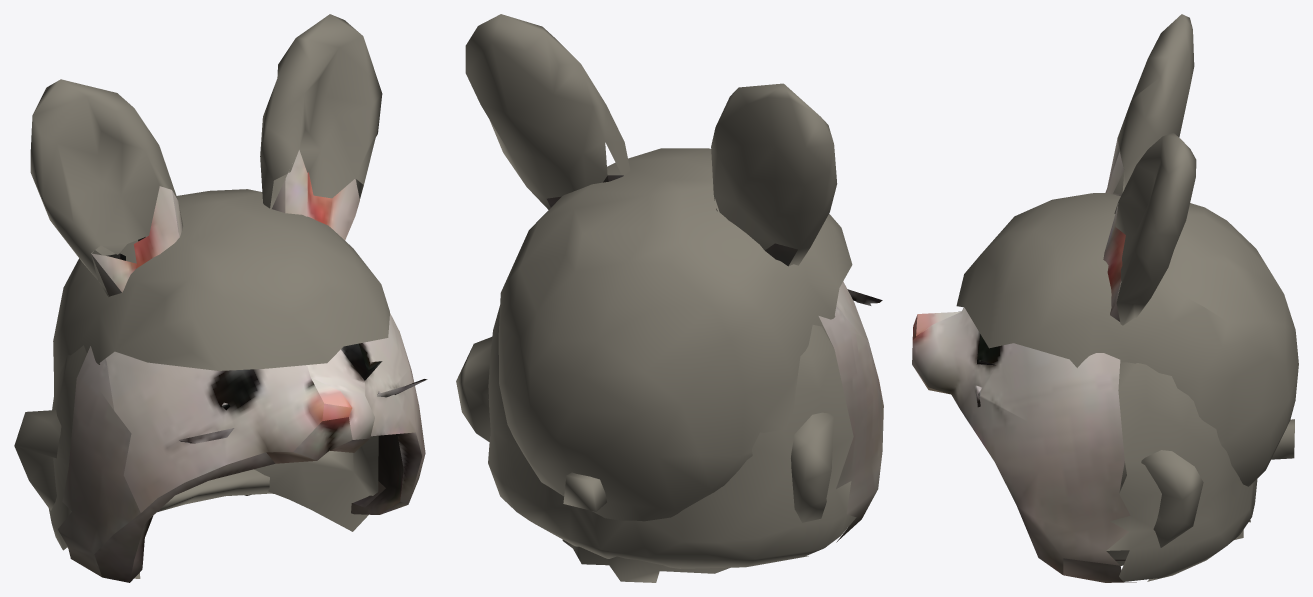
File: rabbit.glb
The picture shows the model from 3 angles, left to right: view 1: azimuth 30°, elevation 25°; view 2: azimuth 150°, elevation 25°; view 3: azimuth 270°, elevation 25°; orthographic projection. The views are drawn at different scales.
Parts seen in each view (by area): view 1: geometry_0, HoodAnatomicalLining; view 2: HoodAnatomicalLining, geometry_0; view 3: geometry_0, HoodAnatomicalLining.
Boxes of the visible parts, x1,y1,x2,y2 form: geometry_0: (30,14,427,582); HoodAnatomicalLining: (14,189,389,578); HoodAnatomicalLining: (456,148,852,582); geometry_0: (465,14,883,568); geometry_0: (912,14,1294,582); HoodAnatomicalLining: (956,193,1298,565).
Bounding box in the file's own units: 0.4602 × 0.5879 × 0.4533.
Materials: 2 (1 with a texture image).
